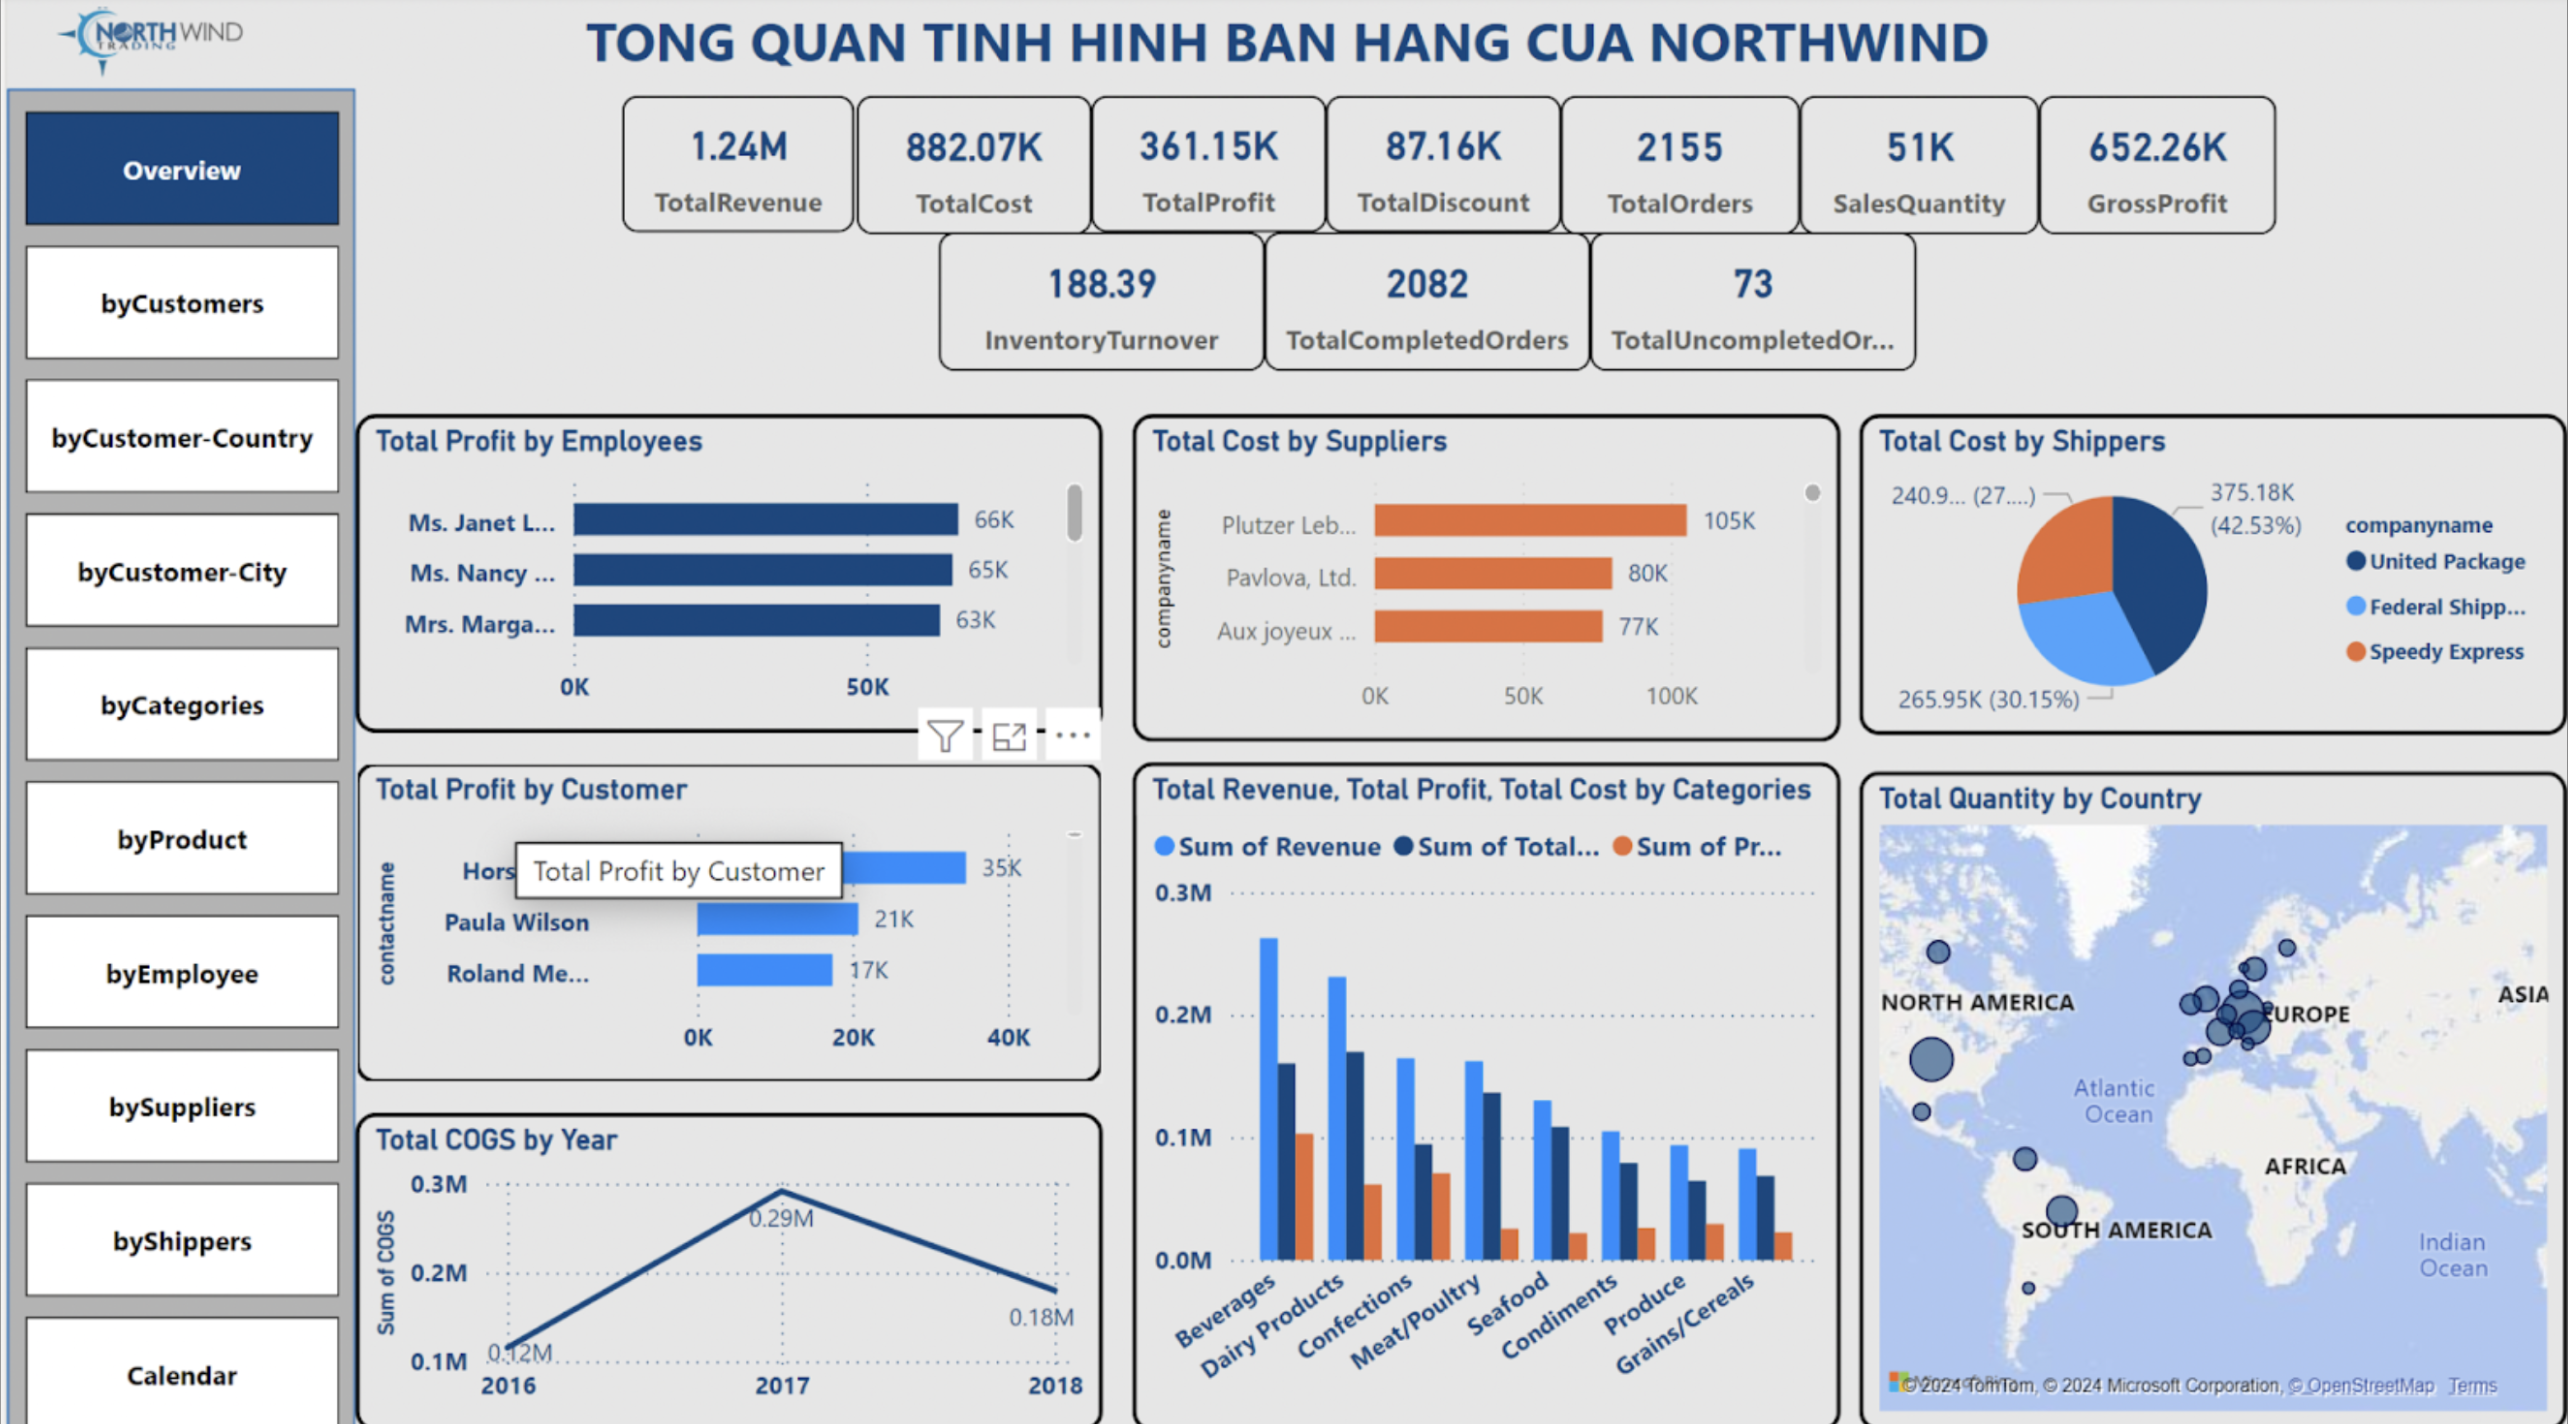

The dashboard page shown, as its layout file describes it:
{"tool":"powerbi","page":{"name":"Overview","canvas":[1280,720],"ordinal":0},"visuals":[{"type":"card","fields":{"Values":["FactOrders.TotalRevenue"]},"box":[307.5,51.2,116.2,68.3],"z":0},{"type":"card","fields":{"Values":["FactOrders.TotalProfit"]},"box":[542.1,51.2,117.3,68.3],"z":1000},{"type":"card","fields":{"Values":["Sum(FactOrders.TotalCost)"]},"box":[424.8,51.2,117.3,69.5],"z":2000},{"type":"card","fields":{"Values":["FactOrders.TotalDiscount"]},"box":[659.4,51.2,117.3,68.3],"z":3000},{"type":"card","fields":{"Values":["FactOrders.GrossProfit"]},"box":[1015.8,51.2,118.4,69.5],"z":4000},{"type":"card","fields":{"Values":["Sum(FactOrders.Quantity)"]},"box":[896.2,51.2,119.6,69.5],"z":5000},{"type":"card","fields":{"Values":["FactOrders.InventoryTurnover"]},"box":[465.8,119.6,162.8,69.5],"z":6000},{"type":"card","fields":{"Values":["FactOrders.TotalCompletedOrders"]},"box":[628.6,119.6,162.8,69.5],"z":7000},{"type":"card","fields":{"Values":["FactOrders.TotalUncompletedOrders"]},"box":[791.5,119.6,162.8,69.5],"z":8000},{"type":"clusteredColumnChart","title":"Total Revenue, Total Profit, Total Cost by Categories","fields":{"Category":["categories.categoryname"],"Y":["Sum(FactOrders.Revenue)","Sum(FactOrders.TotalCost)","Sum(FactOrders.Profit)"]},"box":[562.6,384.9,354.2,334.8],"z":9000},{"type":"barChart","title":"Total Profit by Employees","fields":{"Category":["employees.fullname"],"Y":["Sum(FactOrders.Profit)"]},"box":[174.2,210.7,373.5,159.4],"z":10000},{"type":"lineChart","title":"Total COGS by Year","fields":{"Y":["Sum(FactOrders.COGS)"],"Category":["Calendar.Date.Variation.Date Hierarchy.Year"]},"box":[174.2,560.3,373.5,159.4],"z":11000},{"type":"textbox","box":[0,0,1280,47.8],"z":12000},{"type":"card","fields":{"Values":["CountNonNull(FactOrders.OrderID)"]},"box":[776.7,51.2,119.6,69.5],"z":13000},{"type":"image","box":[0,0,157.2,47.8],"z":14000},{"type":"shape","box":[0,47.8,174.2,673],"z":15000},{"type":"pageNavigator","box":[9.1,59.2,157.2,660.5],"z":16000},{"type":"map","title":"Total Quantity by Country","fields":{"Category":["country.country"],"Size":["Sum(FactOrders.Quantity)"]},"box":[925.8,389.5,354.2,330.2],"z":17000},{"type":"clusteredBarChart","title":"Total Profit by Customer","fields":{"Category":["customers.contactname"],"Y":["Sum(FactOrders.Profit)"]},"box":[174.2,384.9,373.5,160.6],"z":18000},{"type":"pieChart","title":"Total Cost by Shippers","fields":{"Y":["Sum(FactOrders.TotalCost)"],"Category":["shippers.companyname"]},"box":[925.8,210.7,354.2,160.6],"z":19000},{"type":"barChart","title":"Total Cost by Suppliers","fields":{"Category":["suppliers.companyname"],"Y":["Sum(FactOrders.TotalCost)"]},"box":[562.6,210.7,354.2,164],"z":20000}]}

Visuals, with their boxes in screenshot pixels (x1, y1, x2, y2), scaled from the page's 1280x720 canvas onto the 2568x1424 screenshot:
card - FactOrders.TotalRevenue: [x1=617, y1=101, x2=850, y2=236]
card - FactOrders.TotalProfit: [x1=1088, y1=101, x2=1323, y2=236]
card - Sum(FactOrders.TotalCost): [x1=852, y1=101, x2=1088, y2=239]
card - FactOrders.TotalDiscount: [x1=1323, y1=101, x2=1558, y2=236]
card - FactOrders.GrossProfit: [x1=2038, y1=101, x2=2275, y2=239]
card - Sum(FactOrders.Quantity): [x1=1798, y1=101, x2=2038, y2=239]
card - FactOrders.InventoryTurnover: [x1=935, y1=237, x2=1261, y2=374]
card - FactOrders.TotalCompletedOrders: [x1=1261, y1=237, x2=1588, y2=374]
card - FactOrders.TotalUncompletedOrders: [x1=1588, y1=237, x2=1915, y2=374]
"Total Revenue, Total Profit, Total Cost by Categories" clusteredColumnChart: [x1=1129, y1=761, x2=1839, y2=1423]
"Total Profit by Employees" barChart: [x1=349, y1=417, x2=1099, y2=732]
"Total COGS by Year" lineChart: [x1=349, y1=1108, x2=1099, y2=1423]
textbox: [x1=0, y1=0, x2=2567, y2=95]
card - CountNonNull(FactOrders.OrderID): [x1=1558, y1=101, x2=1798, y2=239]
image: [x1=0, y1=0, x2=315, y2=95]
shape: [x1=0, y1=95, x2=349, y2=1423]
pageNavigator: [x1=18, y1=117, x2=334, y2=1423]
"Total Quantity by Country" map: [x1=1857, y1=770, x2=2567, y2=1423]
"Total Profit by Customer" clusteredBarChart: [x1=349, y1=761, x2=1099, y2=1079]
"Total Cost by Shippers" pieChart: [x1=1857, y1=417, x2=2567, y2=734]
"Total Cost by Suppliers" barChart: [x1=1129, y1=417, x2=1839, y2=741]
